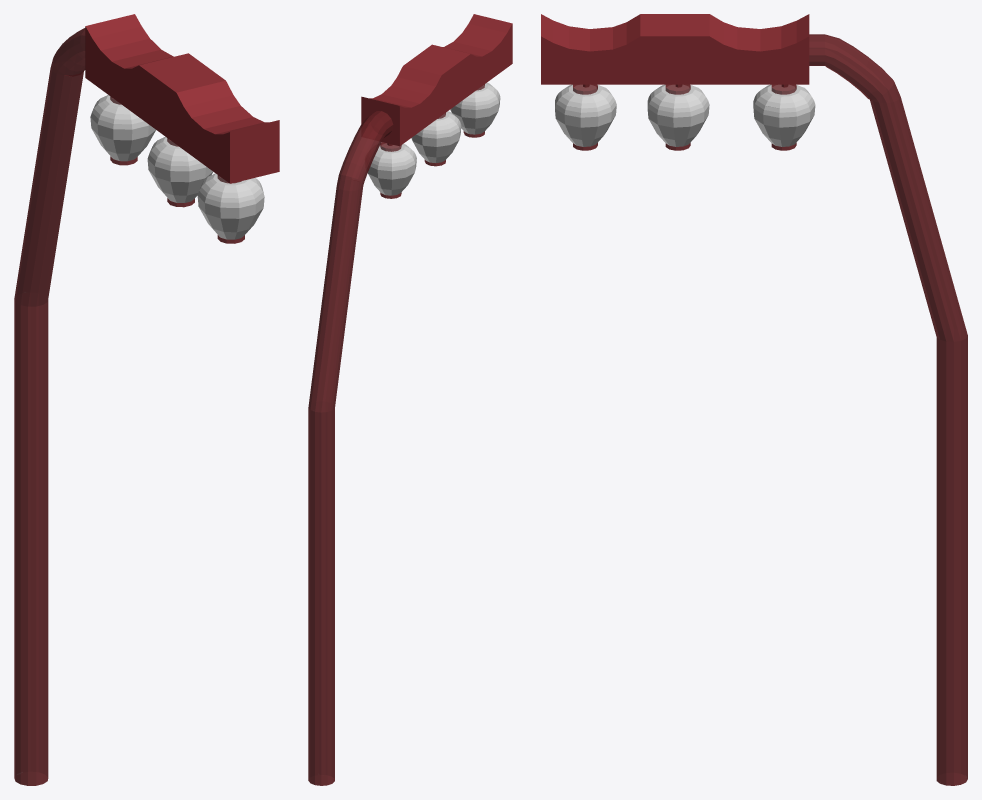
The model's file is poste liberdade.fbx.
3 renders of one model, left to right at view 1: azimuth 30°, elevation 25°; view 2: azimuth 150°, elevation 25°; view 3: azimuth 270°, elevation 25°, orthographic. The views are drawn at different scales.
Parts seen in each view (by area): view 1: Poste Pescoço, Poste cabeça, Lanterna, Lanterna.002, Lanterna.001; view 2: Poste Pescoço, Poste cabeça, Lanterna.002, Lanterna.001, Lanterna; view 3: Poste Pescoço, Poste cabeça, Lanterna.001, Lanterna.002, Lanterna.
Boxes of the visible parts, x1,y1,x2,y2 form: Poste Pescoço: (14, 28, 85, 785); Poste cabeça: (85, 14, 279, 183); Lanterna: (197, 173, 264, 239); Lanterna.002: (90, 95, 155, 161); Lanterna.001: (147, 137, 212, 202); Poste Pescoço: (308, 111, 393, 785); Poste cabeça: (361, 14, 512, 146); Lanterna.002: (368, 143, 416, 195); Lanterna.001: (411, 111, 461, 162); Lanterna: (450, 82, 500, 134); Poste Pescoço: (809, 34, 967, 785); Poste cabeça: (541, 14, 809, 84); Lanterna.001: (647, 84, 709, 146); Lanterna.002: (753, 84, 815, 146); Lanterna: (555, 84, 616, 146).
Bounding box in the file's own units: 35.05 × 471 × 241.
